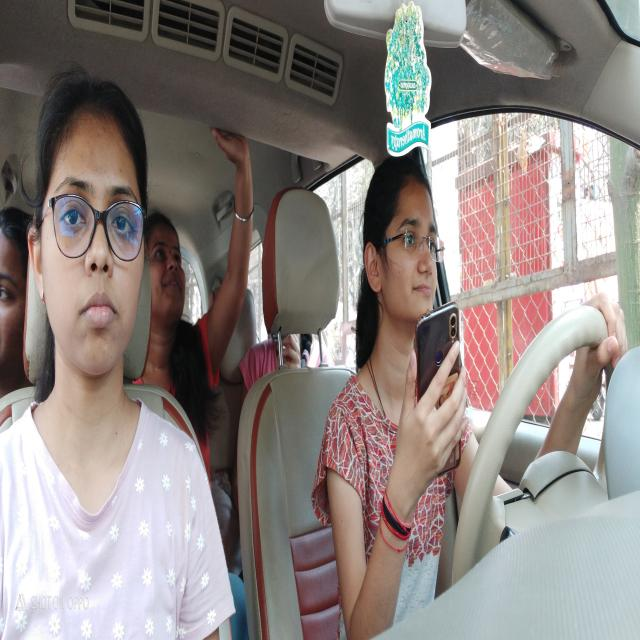mobile: (415, 304, 466, 481)
person: (32, 65, 150, 397), (361, 152, 447, 352), (145, 201, 188, 356), (0, 197, 33, 385)
